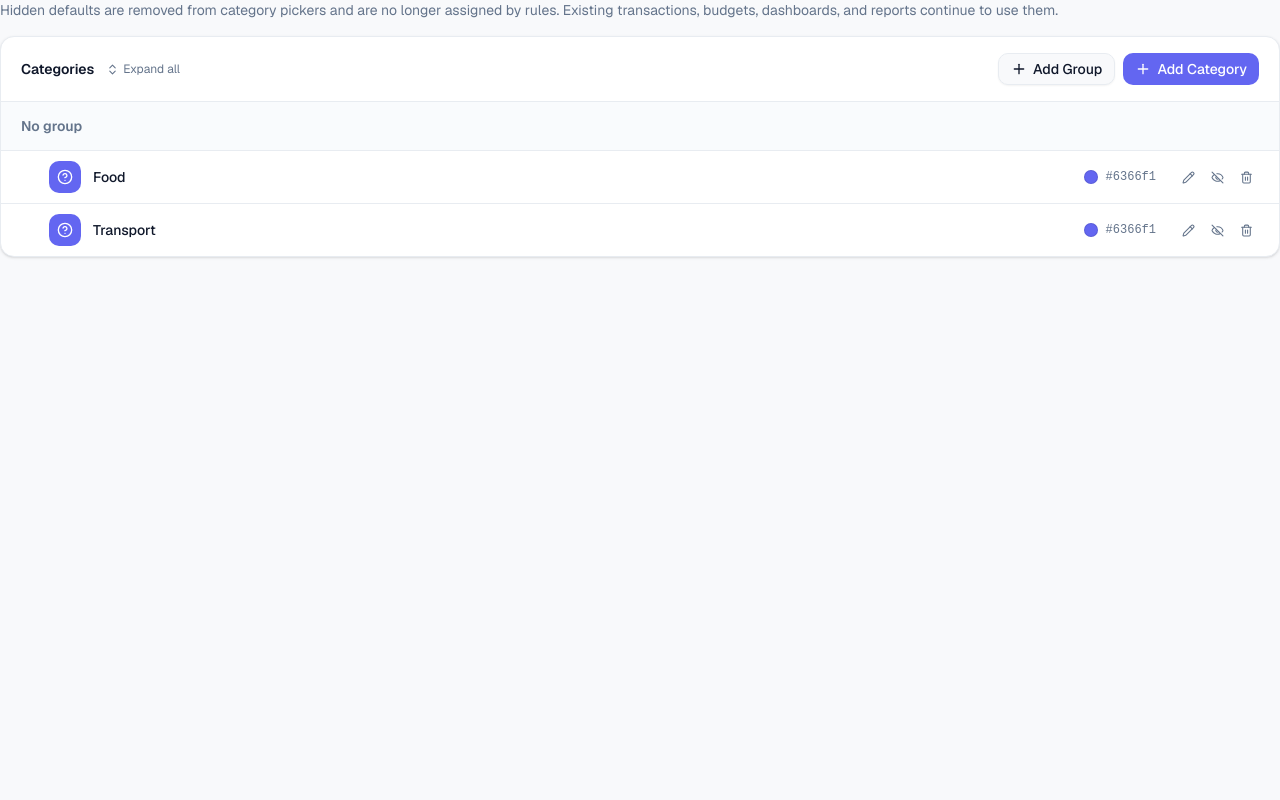
Scenario: deleting a category › does not offer the category being deleted as its own destination
Click the button titled "Delete" in the row of "Food" at (1246, 177), box [1234,164,1259,190]
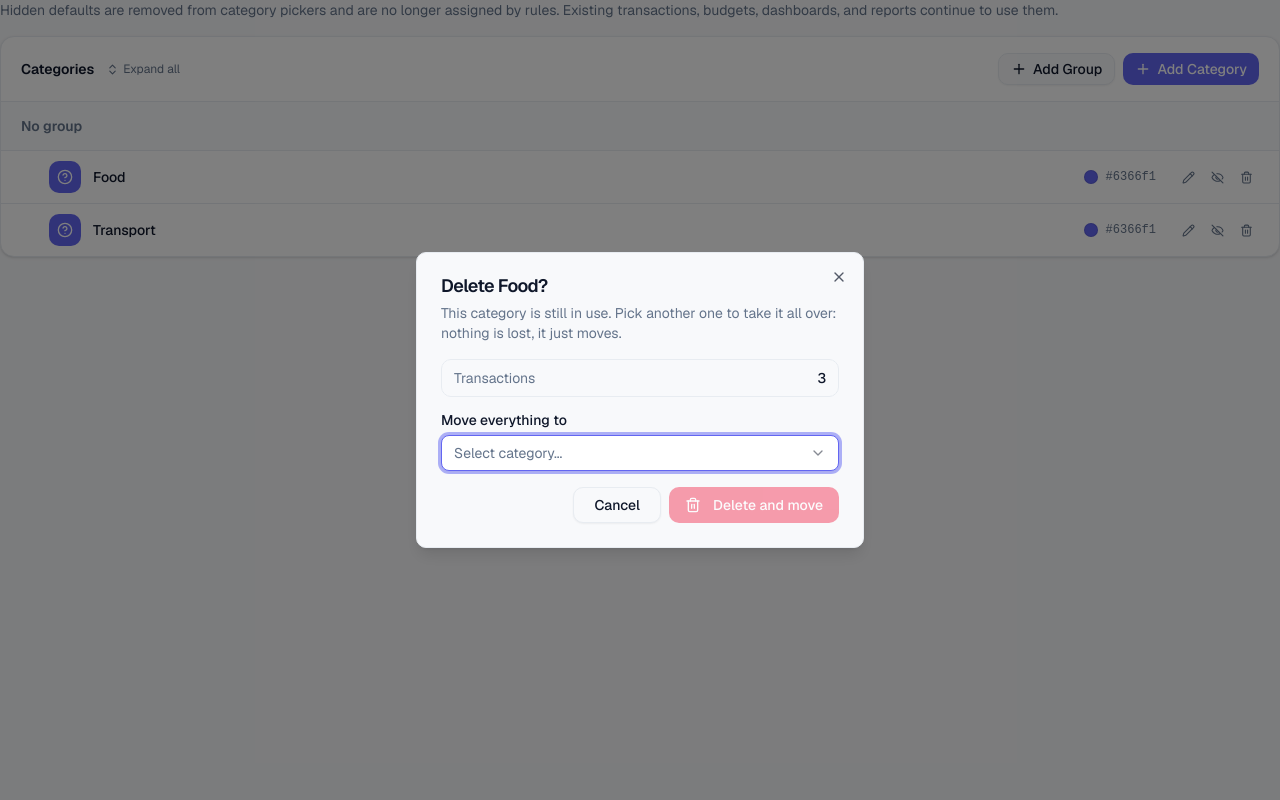
Check: the heading "Delete Food?" is shown, box [441,274,548,297]
Click the button "Select category..." at (508, 453), box [441,435,839,471]
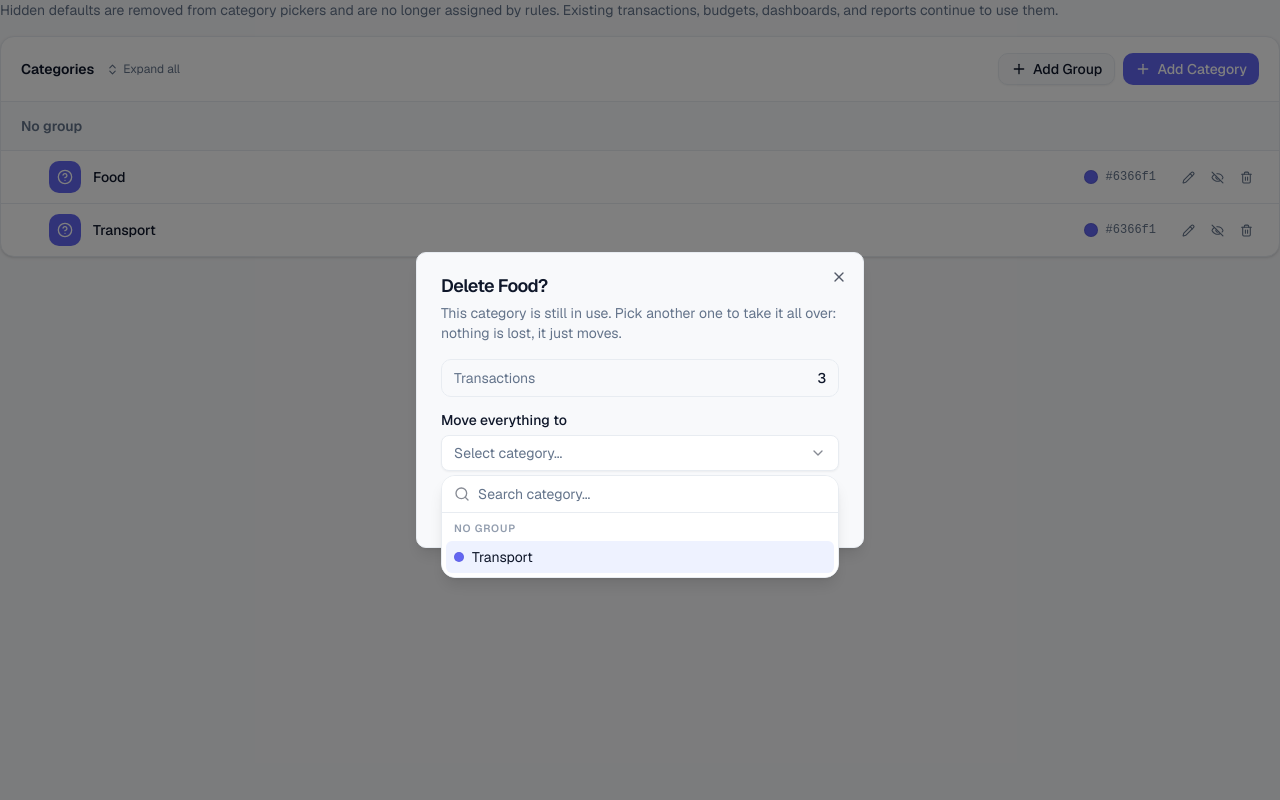
Check: the options read "Transport", in this order, box [446,541,834,573]
